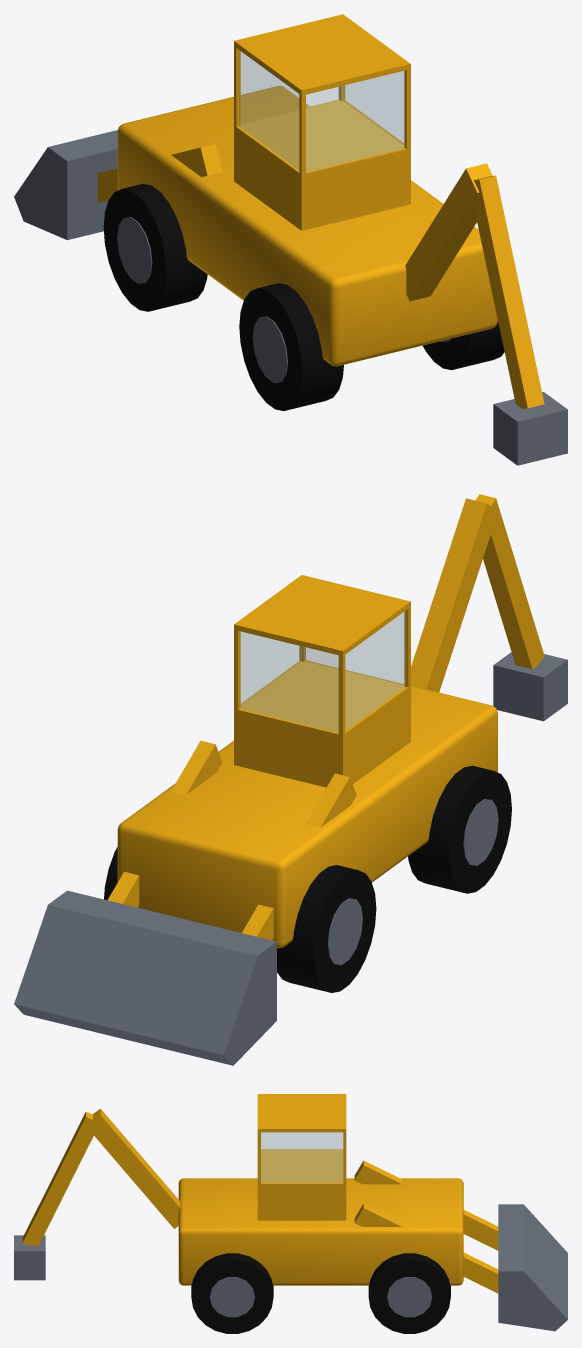
The model's file is plant.earthmoving.backhoe_loader.glb.
3 views of the same model, one above another, from view 1: azimuth 30°, elevation 25°; view 2: azimuth 150°, elevation 25°; view 3: azimuth 270°, elevation 25° (orthographic). The views are drawn at different scales.
Parts seen in each view (by area): view 1: main__plant_yellow, main__rubber, main__steel_painted, main__glass; view 2: main__plant_yellow, main__steel_painted, main__rubber, main__glass; view 3: main__plant_yellow, main__steel_painted, main__rubber, main__glass.
Boxes of the visible parts, x1=… form: main__plant_yellow: x1=97, y1=14, x2=544, y2=408; main__rubber: x1=103, y1=184, x2=504, y2=410; main__steel_painted: x1=14, y1=130, x2=567, y2=465; main__glass: x1=239, y1=50, x2=404, y2=171; main__plant_yellow: x1=108, y1=494, x2=544, y2=948; main__steel_painted: x1=14, y1=652, x2=567, y2=1065; main__rubber: x1=104, y1=765, x2=511, y2=992; main__glass: x1=240, y1=611, x2=405, y2=732; main__plant_yellow: x1=22, y1=1094, x2=498, y2=1293; main__steel_painted: x1=14, y1=1204, x2=567, y2=1331; main__rubber: x1=191, y1=1253, x2=450, y2=1333; main__glass: x1=261, y1=1132, x2=342, y2=1182.
Size of the model in its own units: 2.52 by 3.29 by 8.75.
